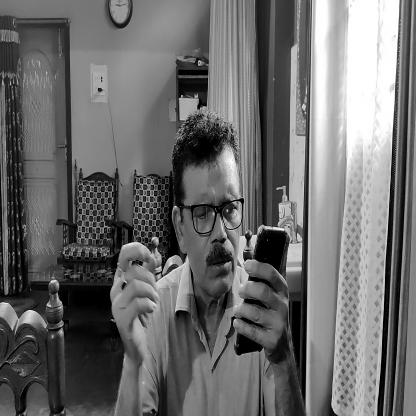Distracted: (170, 119, 244, 309)
